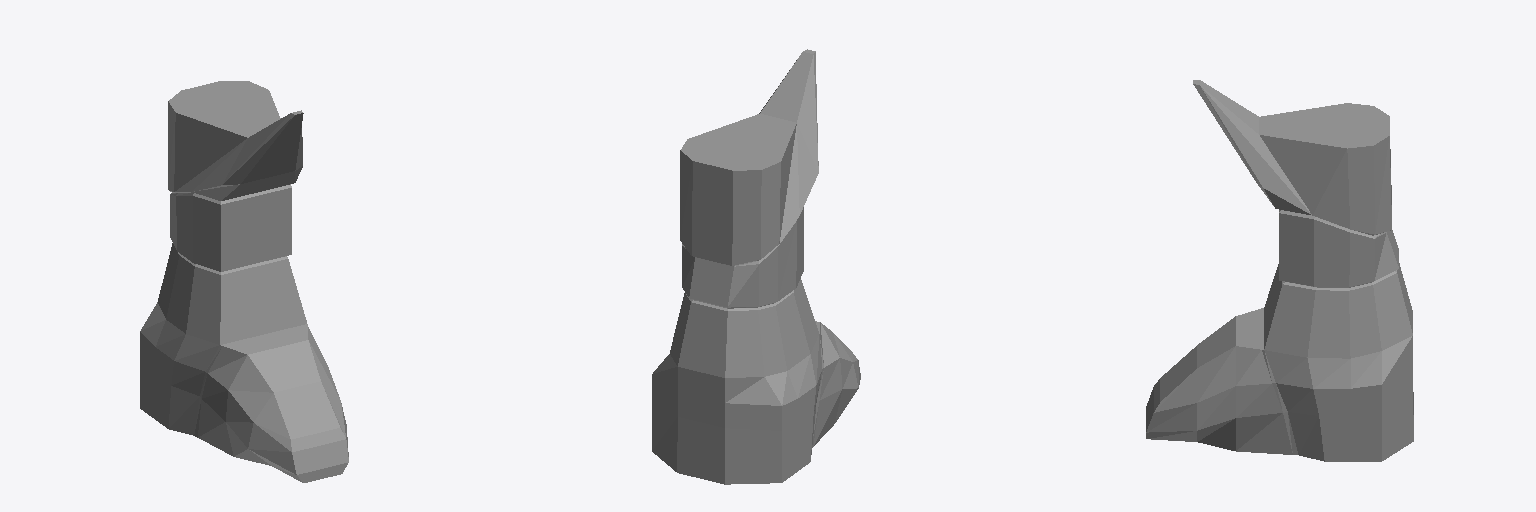
The model's file is knightShoes.obj.
The picture shows the model from 3 angles: view 1: azimuth 30°, elevation 25°; view 2: azimuth 150°, elevation 25°; view 3: azimuth 270°, elevation 25°; orthographic projection.
Visible parts, largest first — view 1: knightshoes_knightshoemesh; view 2: knightshoes_knightshoemesh; view 3: knightshoes_knightshoemesh.
Boxes of the visible parts, x1=… form: knightshoes_knightshoemesh: x1=140, y1=81, x2=348, y2=482; knightshoes_knightshoemesh: x1=652, y1=49, x2=860, y2=484; knightshoes_knightshoemesh: x1=1146, y1=80, x2=1413, y2=461.
Bounding box in the file's own units: 0.2922 × 0.7451 × 0.5197.